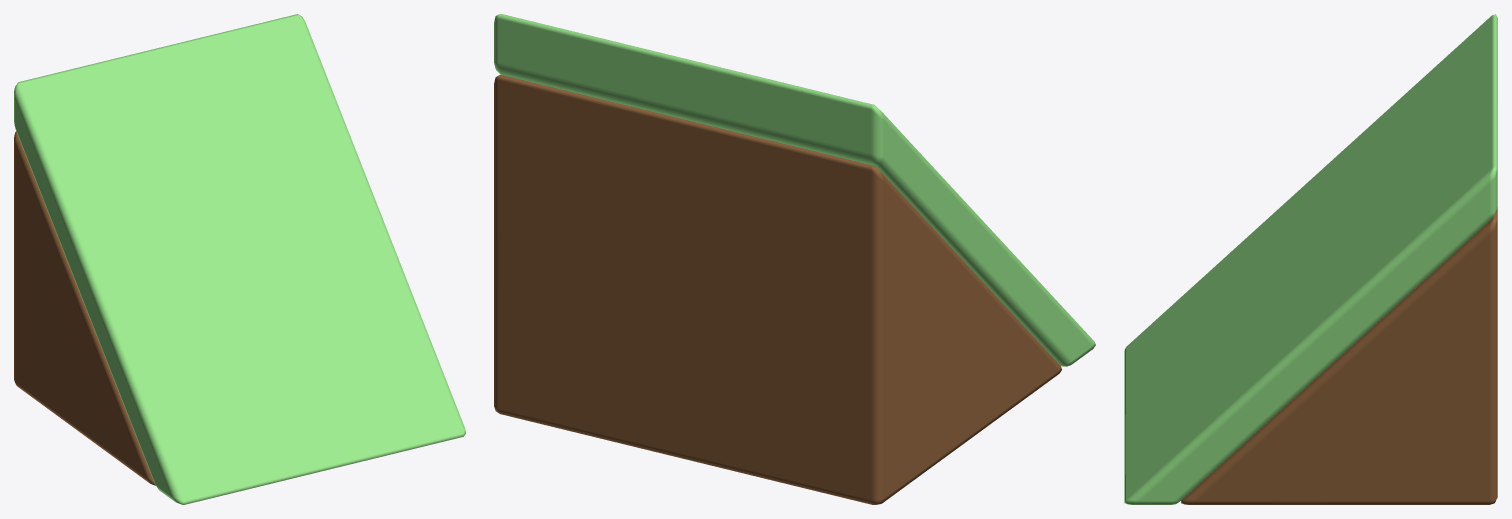
Rendered from Ramp - 1x1.glb.
The picture shows the model from 3 angles, left to right: view 1: azimuth 30°, elevation 25°; view 2: azimuth 150°, elevation 25°; view 3: azimuth 270°, elevation 25°; orthographic projection. The views are drawn at different scales.
Parts seen in each view (by area): view 1: Ramp 1x1; view 2: Ramp 1x1; view 3: Ramp 1x1.
Boxes of the visible parts, bbox=[...] form: Ramp 1x1: bbox=[14, 14, 465, 504]; Ramp 1x1: bbox=[494, 14, 1095, 504]; Ramp 1x1: bbox=[1124, 14, 1497, 504].
Bounding box in the file's own units: 2 × 1.98 × 1.98.
